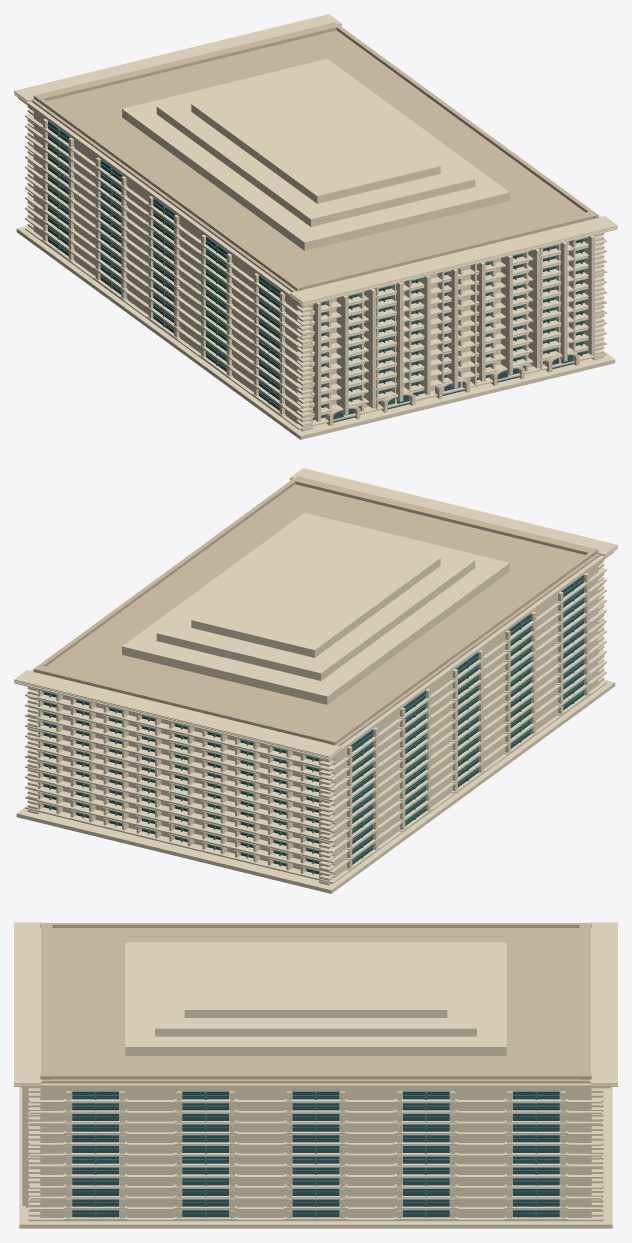
File: peninsula-hotel.glb
The picture shows the model from 3 angles, top to bottom: view 1: azimuth 30°, elevation 25°; view 2: azimuth 150°, elevation 25°; view 3: azimuth 270°, elevation 25°; orthographic projection. The views are drawn at different scales.
Parts seen in each view (by area): view 1: peninsula-hotel; view 2: peninsula-hotel; view 3: peninsula-hotel.
Boxes of the visible parts, x1,y1,x2,y2 form: peninsula-hotel: [14, 14, 617, 439]; peninsula-hotel: [14, 468, 617, 893]; peninsula-hotel: [14, 922, 617, 1228].
Size of the model in its own units: 97.37 by 48 by 155.
